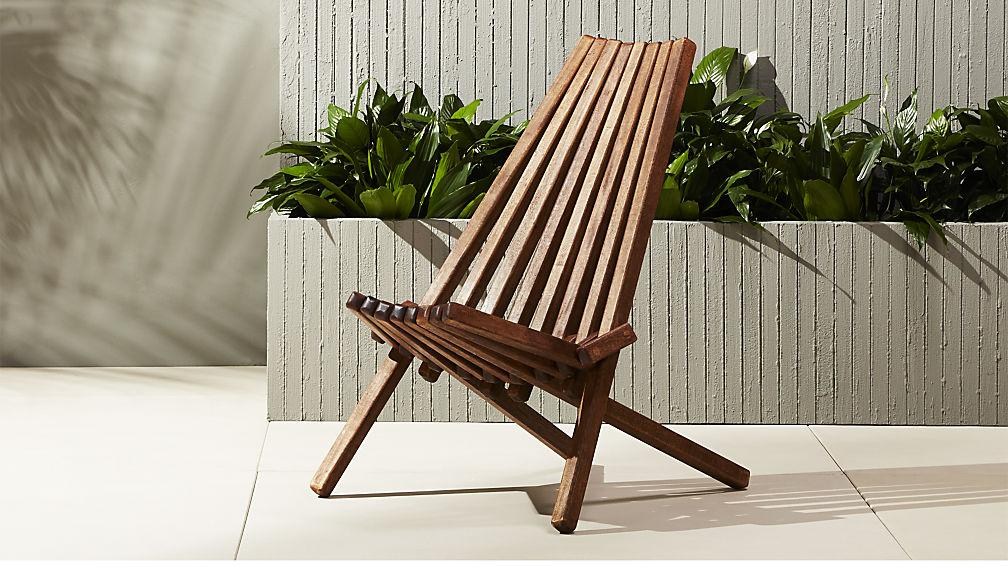chair: (258, 22, 787, 543)
